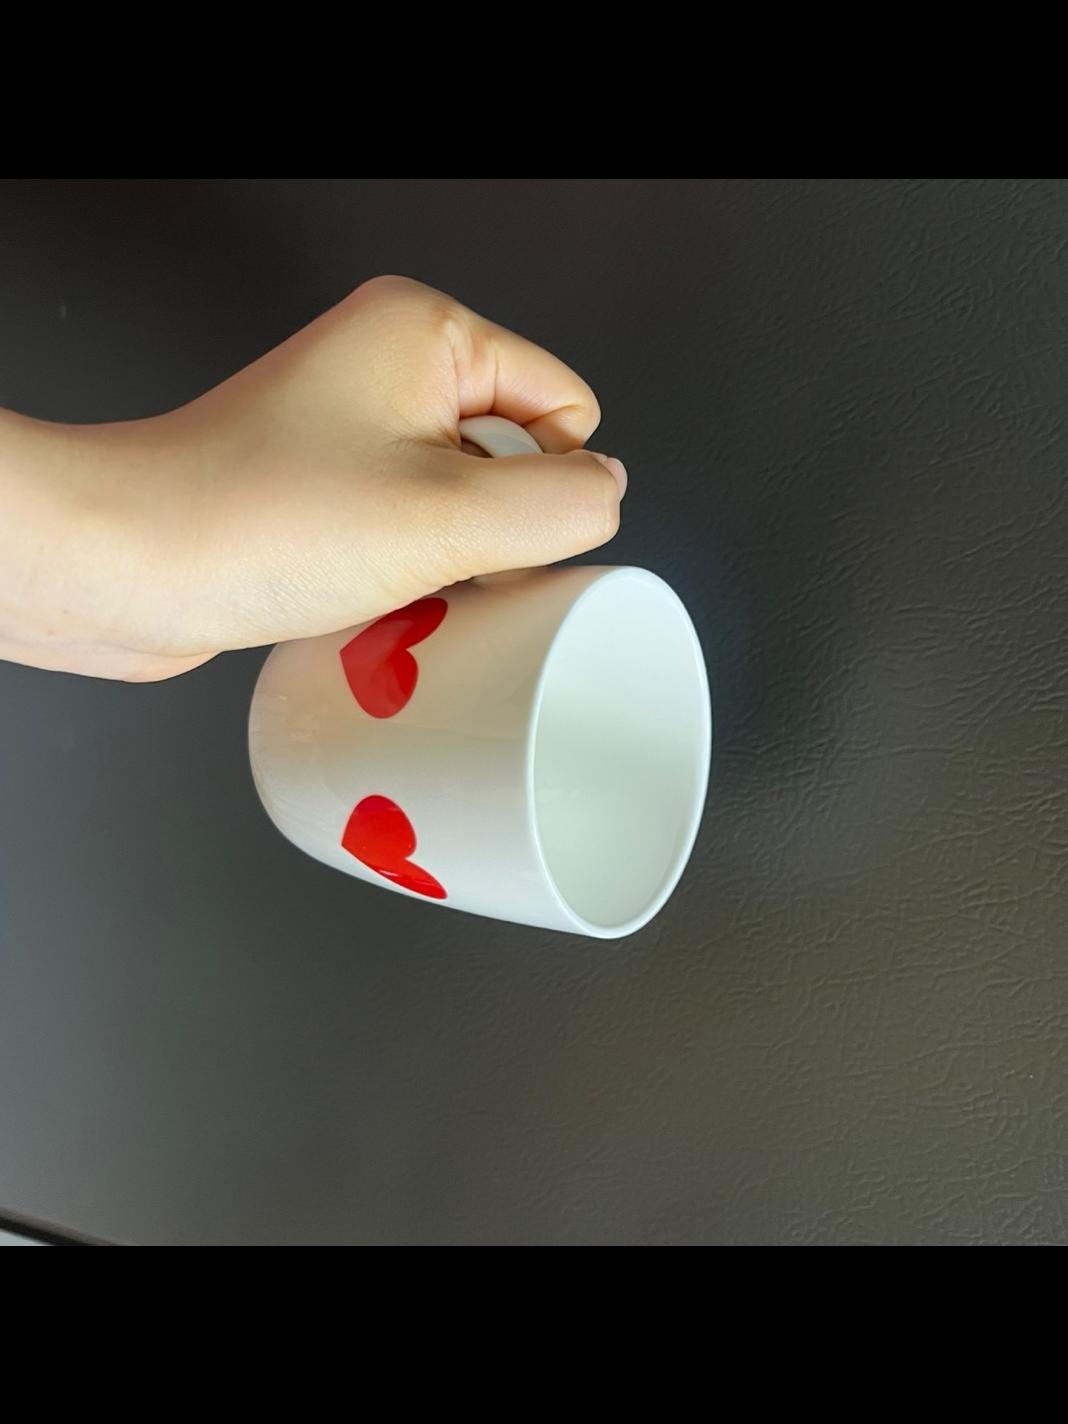cup: (98, 263, 720, 952)
